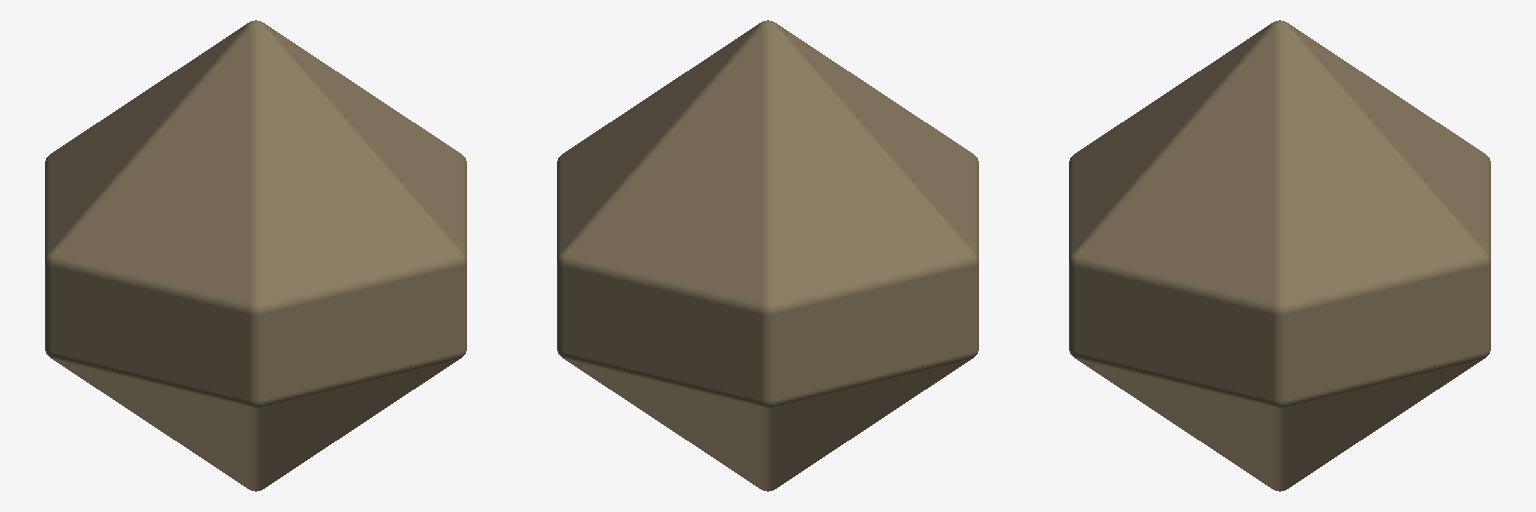
robot.urdf — Diamond_Hex:
<?xml version="1.0"?>
<robot name="Diamond_Hex">
  <link name="base_link">
    <visual>
      <origin xyz="0 0 0" rpy="0 0 0" />
      <geometry>
        <mesh filename="Diamond_Hex.obj"/>      
      </geometry>
      <material name="tan">
        <color rgba="0.55 0.5 0.4 1"/>
      </material>
    </visual>
    <collision>
      <origin xyz="0 0 0" rpy="0 0 0" />
      <geometry>
        <mesh filename="Diamond_Hex.obj"/>
      </geometry>
    </collision>
  </link>
</robot>

--- What the picture shows (computed from the rendered views, not written in the file) ---
The picture shows the robot from 3 angles, left to right: view 1: azimuth 30°, elevation 25°; view 2: azimuth 150°, elevation 25°; view 3: azimuth 270°, elevation 25°; orthographic projection.
Robot: Diamond_Hex — 1 links, 0 joints (none); root link base_link; default pose: every joint at zero.
Visible links, largest first — view 1: base_link; view 2: base_link; view 3: base_link.
Link boxes in pixels (box(x1,y1,x2,y2)): base_link: box(45, 20, 466, 491); base_link: box(557, 20, 978, 491); base_link: box(1069, 20, 1490, 491).
Bounding box of the posed robot: 29.08 × 25.4 × 31.09 m (x, y, z).
Meshes: 1 distinct files referenced, 1 mesh visuals loaded (1 OBJ).
